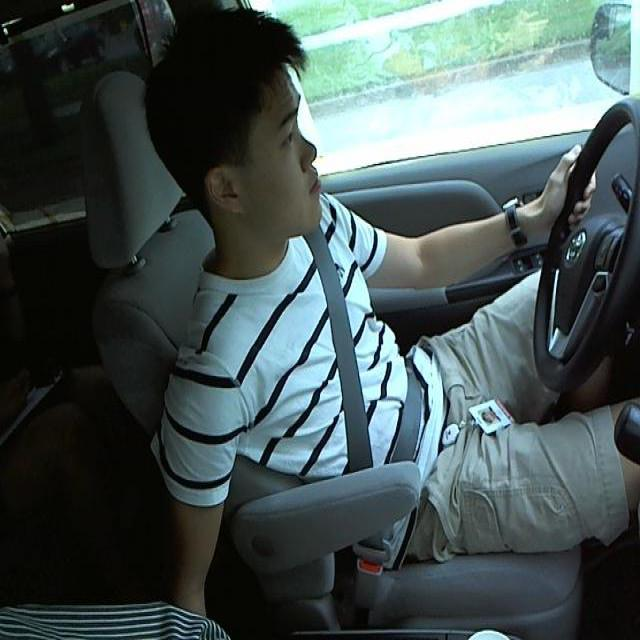seatbelt: (307, 247, 423, 537)
